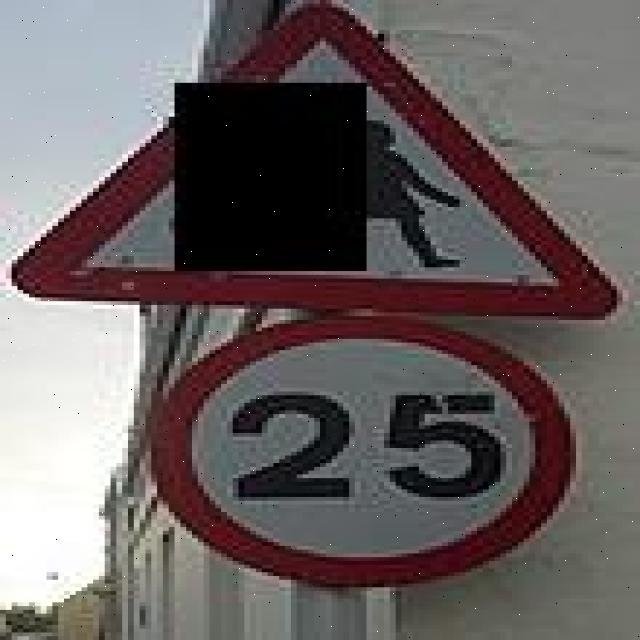speed limit 30: (158, 315, 575, 589)
